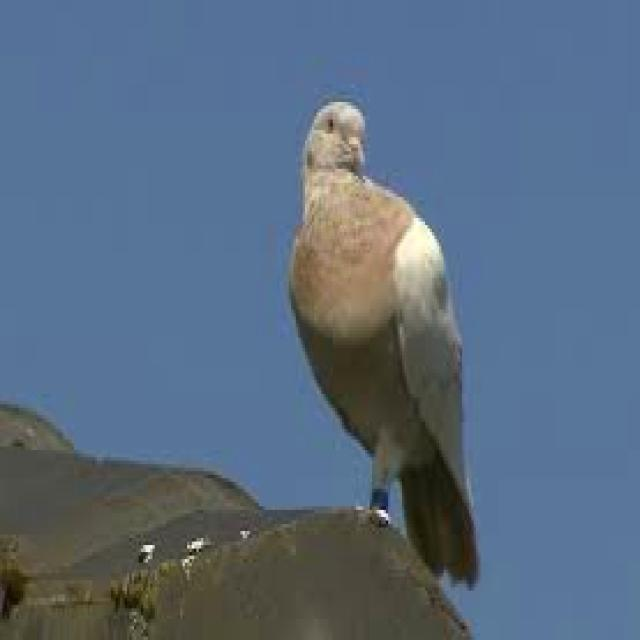pigeon: (286, 98, 474, 580)
